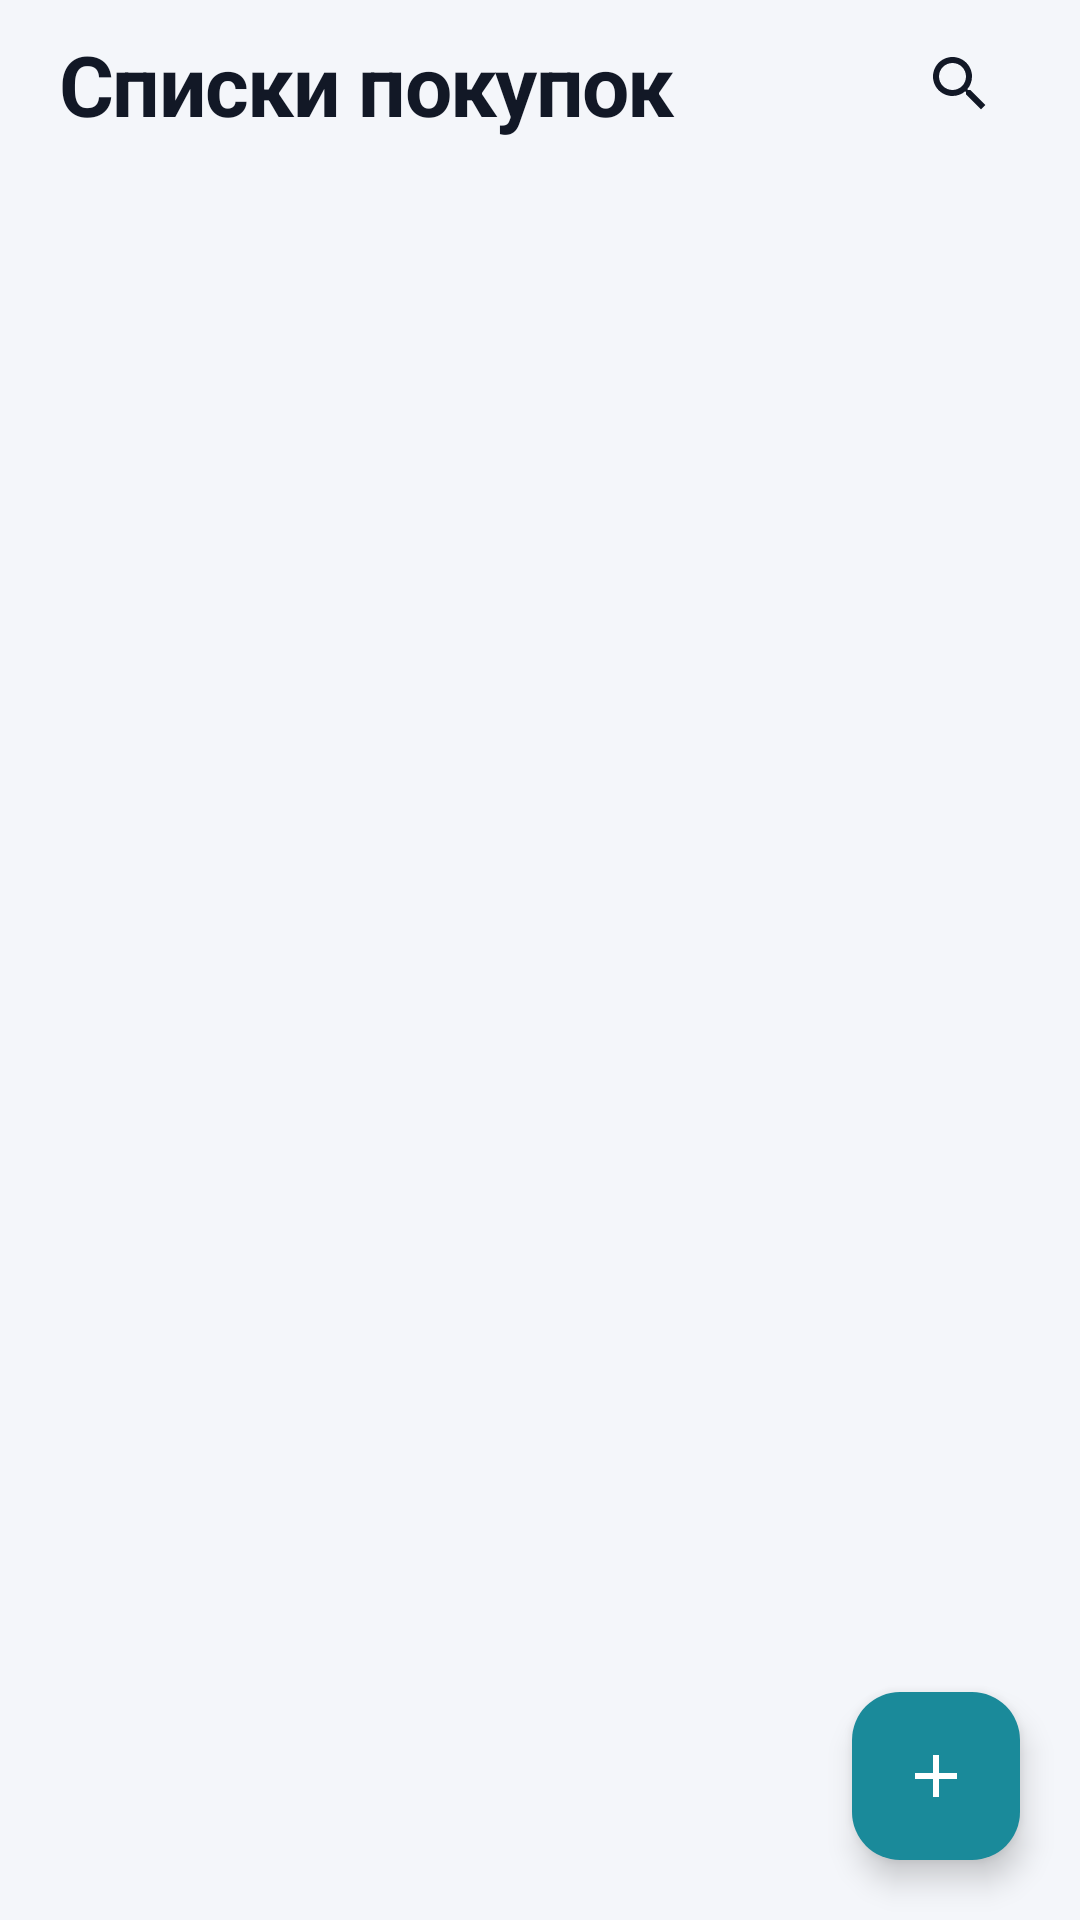

Named icons in this screenshot (1080px×1920px) and their centers, (x=x, y=y):
Добавить: (x=936, y=1776)
Поиск: (x=959, y=83)
